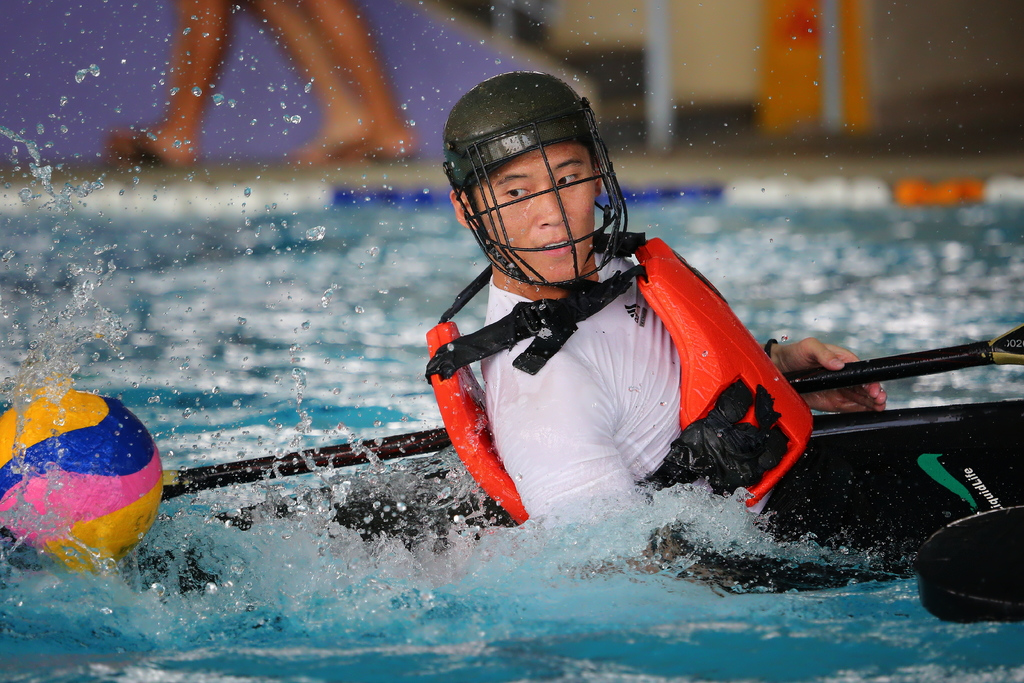Person: (423, 69, 887, 595)
